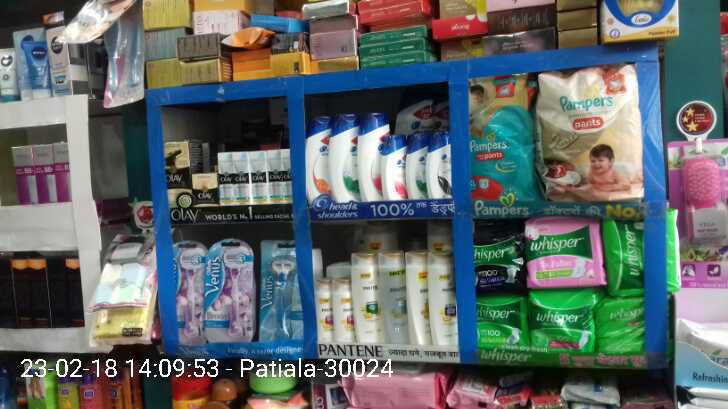venus: (207, 237, 256, 343), (256, 240, 298, 343), (178, 237, 207, 345)
